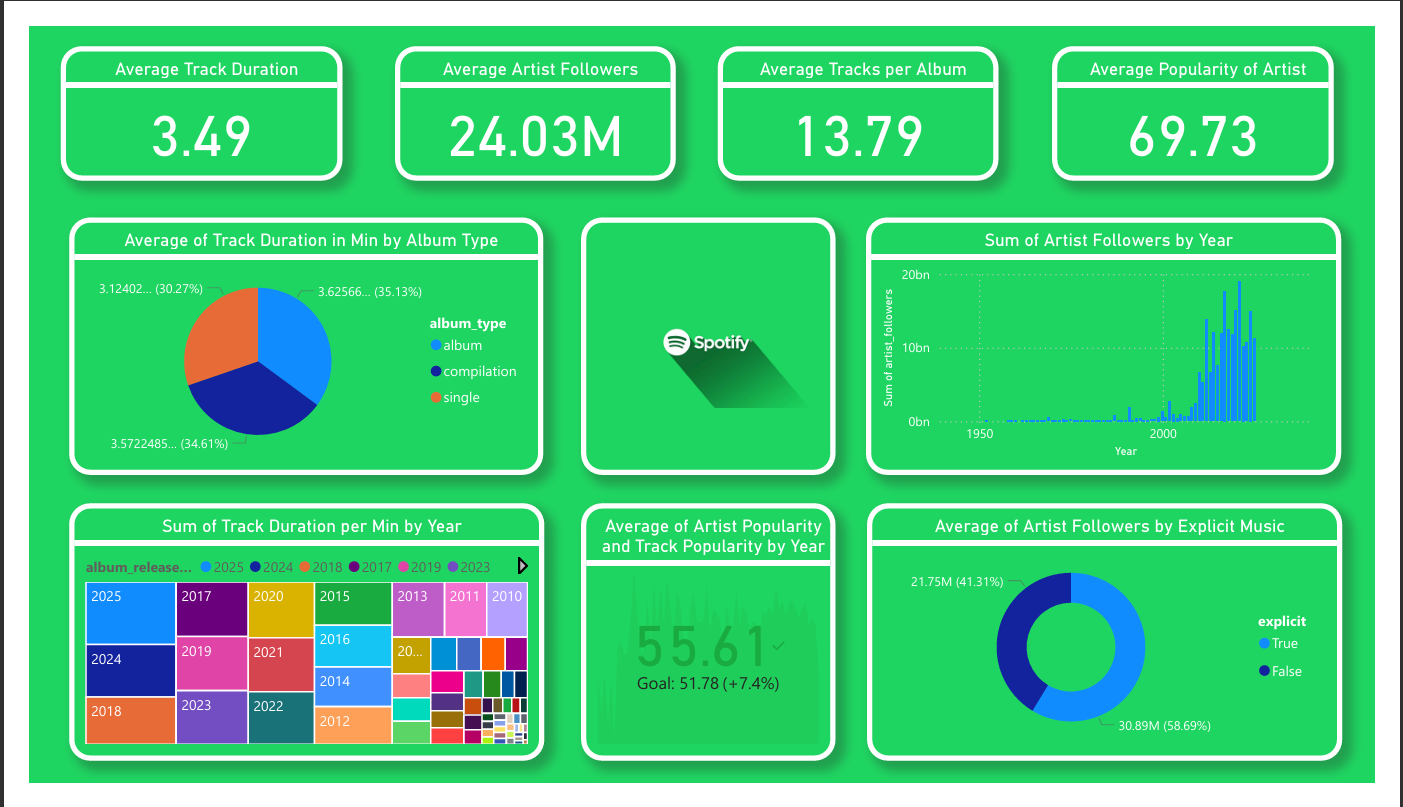

The dashboard page shown, as its layout file describes it:
{"tool":"powerbi","page":{"name":"Page 1","canvas":[1280,720],"ordinal":0},"visuals":[{"type":"image","box":[524.8,182.5,242.3,244.9],"z":0},{"type":"card","title":"Average Track Duration","fields":{"Values":["Avg(spotify_data clean.track_duration_min)"]},"box":[30.5,19,267.7,128.2],"z":1000},{"type":"card","title":"Average Artist Followers","fields":{"Values":["Avg(spotify_data clean.artist_followers)"]},"box":[347.7,19,267.7,128.2],"z":2000},{"type":"card","title":"Average Tracks per Album","fields":{"Values":["Avg(spotify_data clean.album_total_tracks)"]},"box":[654.7,19,267.7,128.2],"z":3000},{"type":"card","title":"Average Popularity of Artist","fields":{"Values":["Avg(spotify_data clean.artist_popularity)"]},"box":[973.2,19,267.7,128.2],"z":4000},{"type":"pieChart","title":"Average of Track Duration in Min by Album Type","fields":{"Category":["spotify_data clean.album_type"],"Y":["Avg(spotify_data clean.track_duration_min)"]},"box":[37.6,182.5,451.7,244.9],"z":5000},{"type":"columnChart","title":"Sum of Artist Followers by Year","fields":{"Y":["Sum(spotify_data clean.artist_followers)"],"Category":["spotify_data clean.album_release_date.Variation.Date Hierarchy.Year"]},"box":[796.3,182.5,451.7,244.9],"z":6000},{"type":"donutChart","title":"Average of Artist Followers by Explicit Music","fields":{"Category":["spotify_data clean.explicit"],"Y":["Avg(spotify_data clean.artist_followers)"]},"box":[796.8,454.2,451.7,244.9],"z":7000},{"type":"treemap","title":"Sum of Track Duration per Min by Year","fields":{"Values":["Sum(spotify_data clean.track_duration_min)"],"Group":["spotify_data clean.album_release_date.Variation.Date Hierarchy.Year"]},"box":[38.1,454.2,451.7,244.9],"z":8000},{"type":"kpi","title":"Average of Artist Popularity and Track Popularity by Year","fields":{"Indicator":["Avg(spotify_data clean.artist_popularity)"],"Goal":["Avg(spotify_data clean.track_popularity)"],"TrendLine":["spotify_data clean.album_release_date.Variation.Date Hierarchy.Year"]},"box":[525,454,242,245],"z":9000}]}

Visuals, with their boxes in screenshot pixels (x1, y1, x2, y2), scaled from the page's 1280x720 canvas onto the 1403x807 screenshot:
image: bbox=[575, 205, 841, 479]
"Average Track Duration" card: bbox=[33, 21, 327, 165]
"Average Artist Followers" card: bbox=[381, 21, 675, 165]
"Average Tracks per Album" card: bbox=[718, 21, 1011, 165]
"Average Popularity of Artist" card: bbox=[1067, 21, 1360, 165]
"Average of Track Duration in Min by Album Type" pieChart: bbox=[41, 205, 536, 479]
"Sum of Artist Followers by Year" columnChart: bbox=[873, 205, 1368, 479]
"Average of Artist Followers by Explicit Music" donutChart: bbox=[873, 509, 1368, 784]
"Sum of Track Duration per Min by Year" treemap: bbox=[42, 509, 537, 784]
"Average of Artist Popularity and Track Popularity by Year" kpi: bbox=[575, 509, 841, 783]
